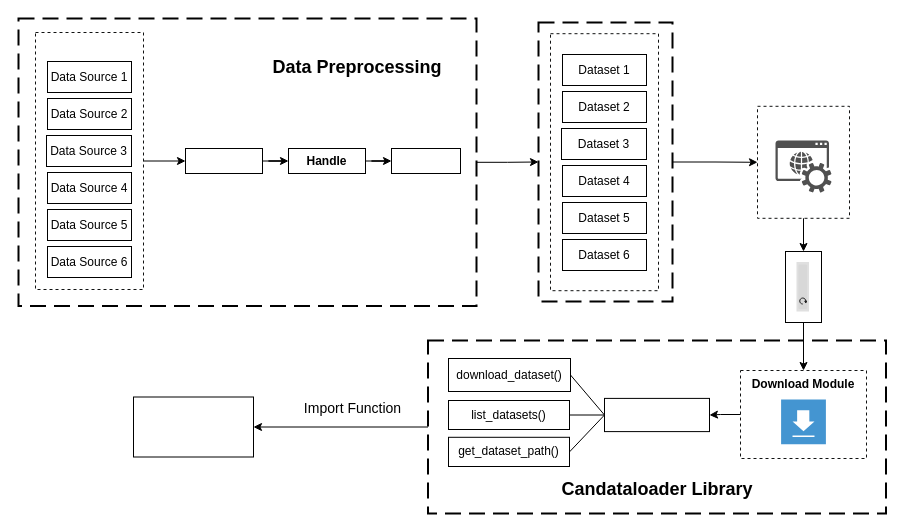
Some shapes in this 904 by 531 pixel diagram are drawn without their labels. The shapes that lost their labels are listed below. From the top down, each one's box as (x1, y1, x2, y2) in pixels, then its label:
(34, 32, 144, 290): Collect Data
(184, 148, 262, 174): Split Feature
(390, 148, 460, 174): Encoding
(550, 33, 658, 291): Datasets
(756, 105, 850, 218): Host
(796, 261, 809, 312): URL
(132, 396, 254, 457): Get Dataset
(604, 397, 710, 432): Function
